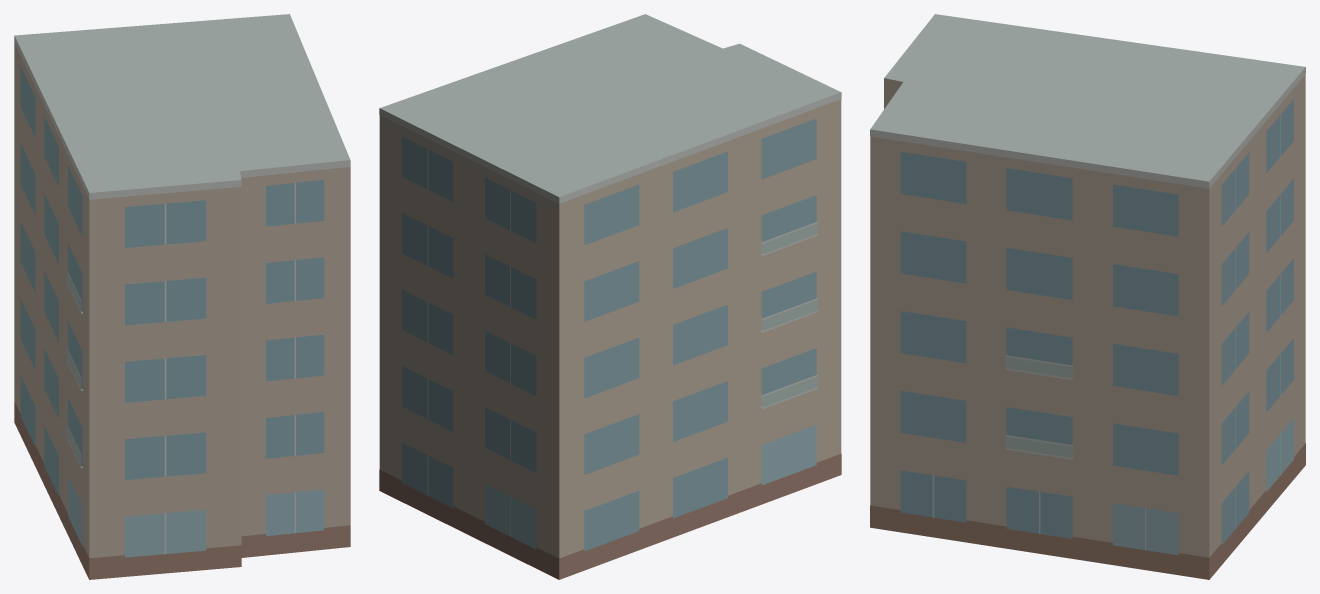
Rendered from survey-upis-32885027.glb.
3 views of the same model, side by side, from view 1: azimuth 30°, elevation 25°; view 2: azimuth 150°, elevation 25°; view 3: azimuth 270°, elevation 25° (orthographic). The views are drawn at different scales.
Visible parts, largest first — view 1: survey-upis-32885027.tmp; view 2: survey-upis-32885027.tmp; view 3: survey-upis-32885027.tmp.
Boxes of the visible parts, x1,y1,x2,y2 form: survey-upis-32885027.tmp: (14,14,350,579); survey-upis-32885027.tmp: (379,14,841,579); survey-upis-32885027.tmp: (870,14,1305,579).
Size of the model in its own units: 12.56 by 13.9 by 13.79.
